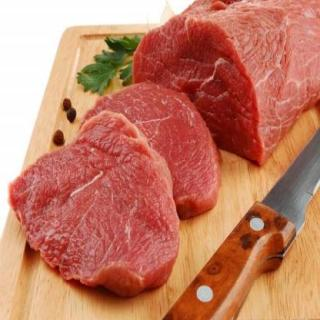Daging Sapi: (135, 1, 320, 172), (10, 114, 178, 296), (84, 89, 223, 210)
